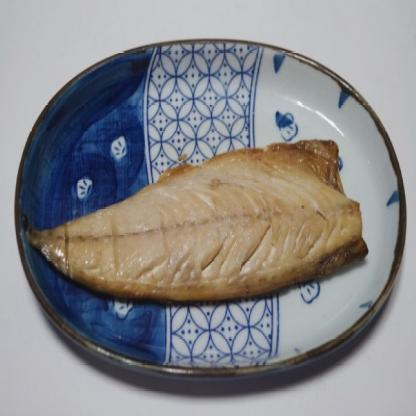Peixe: (17, 127, 388, 314)
